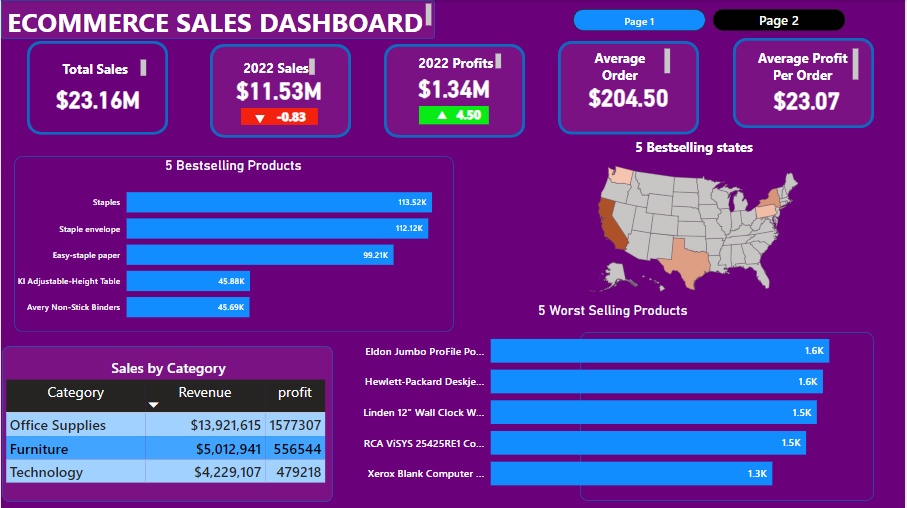

The page's visual inventory and layout, read from the dashboard file:
{"tool":"powerbi","page":{"name":"Page 1","canvas":[1280,720],"ordinal":0},"visuals":[{"type":"shape","box":[0,0,615,55],"z":0},{"type":"textbox","box":[0,0,615.1,55.3],"z":1000},{"type":"shape","box":[296.7,62.9,200,132.9],"z":1000,"group":"g1"},{"type":"shape","box":[37.1,58.6,200,132.9],"z":2000},{"type":"shape","box":[790.1,58.7,200,132.5],"z":2000,"group":"g4"},{"type":"shape","box":[1,490,469.1,221.1],"z":2000,"group":"g5"},{"type":"card","fields":{"Values":["Sum(revenue by year.total_yearly_revenue)"]},"box":[321,90,147.1,72.9],"z":3000,"group":"g1"},{"type":"card","fields":{"Values":["Sum(Total Revenue.Total_Revenue)"]},"box":[64.3,101.4,147.1,72.9],"z":3000},{"type":"card","fields":{"Values":["Sum(average order value.avg_order_value)"]},"box":[825.1,106.2,128.8,60],"z":3000,"group":"g4"},{"type":"shape","box":[1037.1,54.3,200,127.6],"z":4000,"group":"g2"},{"type":"shape","box":[341,152.9,108.6,24.3],"z":4000,"group":"g6"},{"type":"shape","box":[18.4,221.1,623.6,249.4],"z":4000},{"type":"tableEx","title":"Sales by Category","fields":{"Values":["Bestselling category.category_name","Bestselling category.revenue_per_category","profit by category.profit"]},"box":[1,505.5,472,188.5],"z":4000,"group":"g5"},{"type":"shape","box":[543.4,62.5,200,132.9],"z":4500,"group":"g3"},{"type":"textbox","box":[1059.6,64.7,160,57.2],"z":5000,"group":"g2"},{"type":"shape","box":[593.4,151.1,98.6,25.7],"z":5000,"group":"g3"},{"type":"card","fields":{"Values":["Sum(revenue percent change.revenue_percent_change)"]},"box":[384.7,152.9,55,25.7],"z":5000,"group":"g6"},{"type":"shape","box":[820.6,470.6,416.7,239.5],"z":5000},{"type":"card","fields":{"Values":["Sum(average profit per order.avg_profit_per_order)"]},"box":[1069,98.1,146.2,85.9],"z":6000,"group":"g2"},{"type":"card","fields":{"Values":["ecommerce_data.Sales Icon"]},"box":[350.9,155.8,33.8,28.6],"z":6000,"group":"g6"},{"type":"barChart","title":"5 Bestselling Products","fields":{"Category":["Top 5 bestselling products.product_name"],"Y":["Sum(Top 5 bestselling products.revenue_per_product)"]},"box":[17,222.5,623.6,248],"z":6000},{"type":"card","fields":{"Values":["Sum(profit percent change.profit_percent_change)"]},"box":[633.4,146.8,58.6,35.7],"z":7000,"group":"g3"},{"type":"barChart","title":"5 Worst Selling Products","fields":{"Category":["5 worst selling products.product_name"],"Y":["Sum(5 worst selling products.revenue_per_product)"]},"box":[496.1,428,741.3,283.5],"z":7000},{"type":"group","id":"g1","title":"Group 5","box":[296.7,62.9,200,132.9],"z":8000},{"type":"card","fields":{"Values":["ecommerce_data.Profit Icon"]},"box":[609.1,149.6,34.3,30],"z":8000,"group":"g3"},{"type":"group","id":"g2","title":"Group 3","box":[1037.1,54.3,200,130],"z":9000},{"type":"textbox","box":[587.7,70.4,127.1,32.9],"z":9000,"group":"g3"},{"type":"group","id":"g3","title":"Group 2","box":[543.4,62.5,200,132.9],"z":10000},{"type":"card","fields":{"Values":["Sum(profit by year.total_yearly_profit)"]},"box":[553.4,103.9,178.6,41.4],"z":10000,"group":"g3"},{"type":"group","id":"g4","title":"Group 4","box":[790.1,58.7,200,132.5],"z":11000},{"type":"textbox","box":[64.3,80,147.1,34.3],"z":12000},{"type":"textbox","box":[338.6,78.6,111.4,34.3],"z":13000},{"type":"group","id":"g5","title":"Group 6","box":[1,490,472,221.1],"z":14000},{"type":"shapeMap","title":"5 Bestselling states","fields":{"Category":["5 bestselling states.state"],"Value":["Sum(5 bestselling states.revenue_per_state)"]},"box":[693.1,195.6,578.3,232.4],"z":15000},{"type":"pageNavigator","box":[810.7,12.8,386.9,31.2],"z":16000},{"type":"group","id":"g6","title":"Group 1","box":[341,152.9,108.6,31.4],"z":17000,"group":"g1"},{"type":"textbox","box":[810.1,63.7,143.8,61.2],"z":19000,"group":"g4"}]}

Visuals, with their boxes in screenshot pixels (x1, y1, x2, y2), scaled from the page's 1280x720 canvas onto the 907x508 screenshot:
shape: (0, 0, 436, 39)
textbox: (0, 0, 436, 39)
shape: (210, 44, 352, 138)
shape: (26, 41, 168, 135)
shape: (560, 41, 702, 135)
shape: (1, 346, 333, 502)
card - Sum(revenue by year.total_yearly_revenue): (227, 64, 332, 115)
card - Sum(Total Revenue.Total_Revenue): (46, 72, 150, 123)
card - Sum(average order value.avg_order_value): (585, 75, 676, 117)
shape: (735, 38, 877, 128)
shape: (242, 108, 319, 125)
shape: (13, 156, 455, 332)
"Sales by Category" tableEx: (1, 357, 335, 490)
shape: (385, 44, 527, 138)
textbox: (751, 46, 864, 86)
shape: (420, 107, 490, 125)
card - Sum(revenue percent change.revenue_percent_change): (273, 108, 312, 126)
shape: (581, 332, 877, 501)
card - Sum(average profit per order.avg_profit_per_order): (757, 69, 861, 130)
card - ecommerce_data.Sales Icon: (249, 110, 273, 130)
"5 Bestselling Products" barChart: (12, 157, 454, 332)
card - Sum(profit percent change.profit_percent_change): (449, 104, 490, 129)
"5 Worst Selling Products" barChart: (352, 302, 877, 502)
"Group 5" group: (210, 44, 352, 138)
card - ecommerce_data.Profit Icon: (432, 106, 456, 127)
"Group 3" group: (735, 38, 877, 130)
textbox: (416, 50, 507, 73)
"Group 2" group: (385, 44, 527, 138)
card - Sum(profit by year.total_yearly_profit): (392, 73, 519, 103)
"Group 4" group: (560, 41, 702, 135)
textbox: (46, 56, 150, 81)
textbox: (240, 55, 319, 80)
"Group 6" group: (1, 346, 335, 502)
"5 Bestselling states" shapeMap: (491, 138, 901, 302)
pageNavigator: (574, 9, 849, 31)
"Group 1" group: (242, 108, 319, 130)
textbox: (574, 45, 676, 88)
